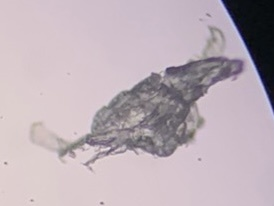microplastic: (28, 26, 246, 172)
